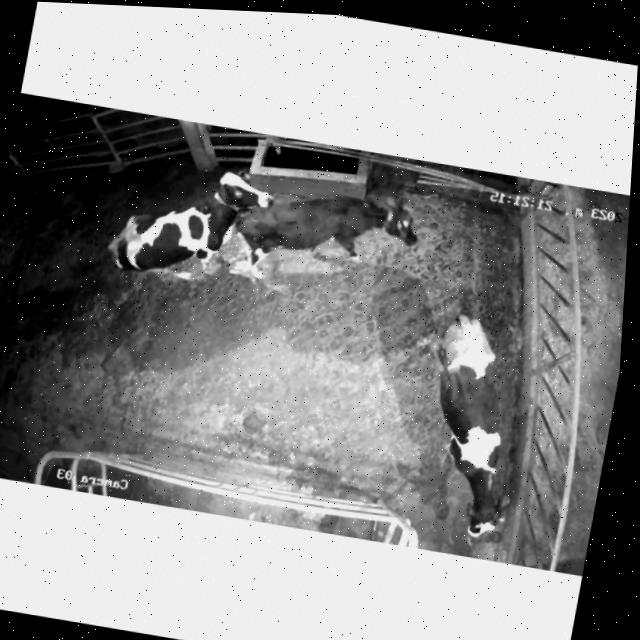propping: (185, 153, 298, 254)
